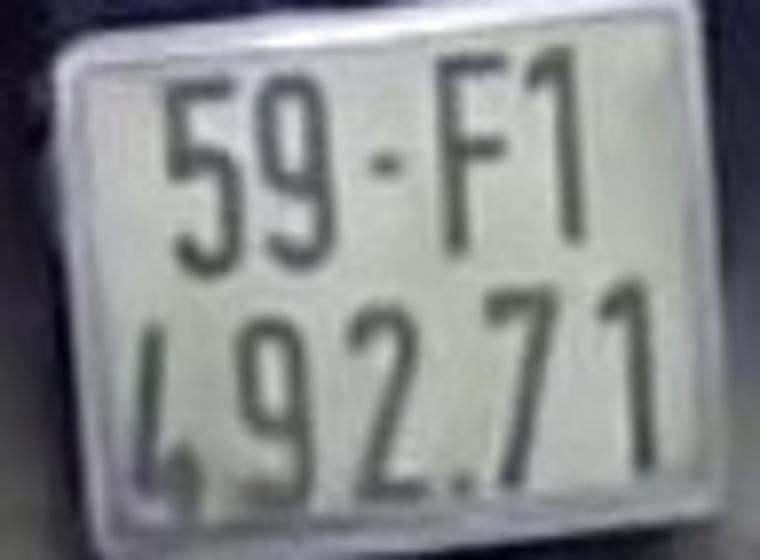-: (364, 151, 402, 177)
.: (453, 473, 473, 492)
1: (527, 46, 585, 248), (603, 276, 660, 475)
2: (345, 302, 428, 500)
4: (126, 327, 206, 519)
5: (167, 76, 244, 280)
7: (480, 291, 558, 486)
9: (256, 72, 337, 271), (234, 318, 313, 507)
F: (431, 50, 517, 255)
